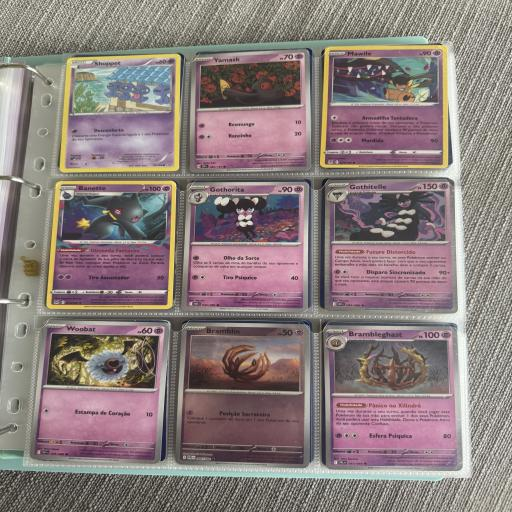card: (323, 323, 462, 473), (30, 317, 171, 464), (175, 321, 313, 468), (324, 178, 460, 314), (181, 179, 311, 313), (46, 181, 177, 309), (320, 44, 449, 169), (189, 47, 313, 174), (58, 53, 182, 173)
